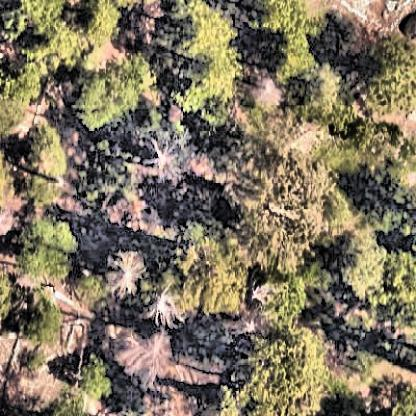tree-top: (218, 152, 347, 258), (215, 319, 338, 416), (168, 1, 246, 126), (165, 226, 251, 318), (343, 27, 416, 121), (72, 51, 154, 127), (21, 1, 120, 62), (6, 212, 86, 281), (320, 222, 388, 302), (7, 274, 72, 353), (13, 129, 78, 197), (251, 264, 327, 322), (256, 18, 313, 91), (112, 320, 176, 381), (1, 52, 42, 130), (71, 355, 120, 404), (106, 250, 148, 305), (143, 278, 181, 334)
